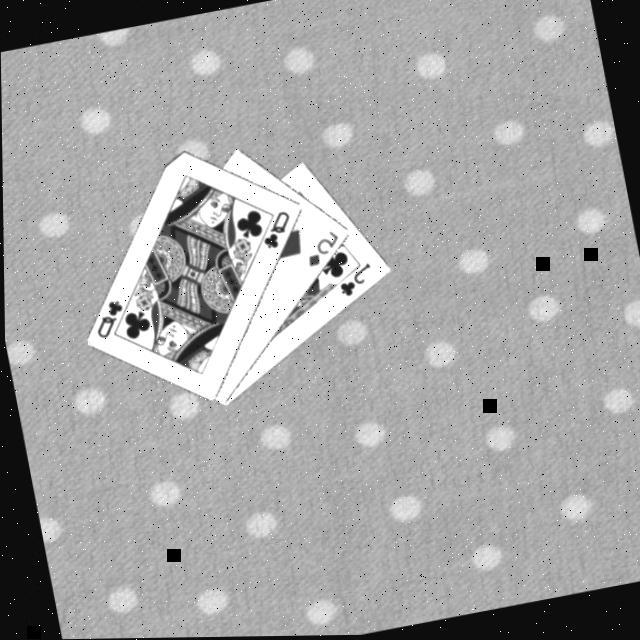5D: (296, 226, 343, 270)
JC: (331, 259, 376, 302)
QC: (84, 294, 128, 342), (251, 206, 295, 253)
